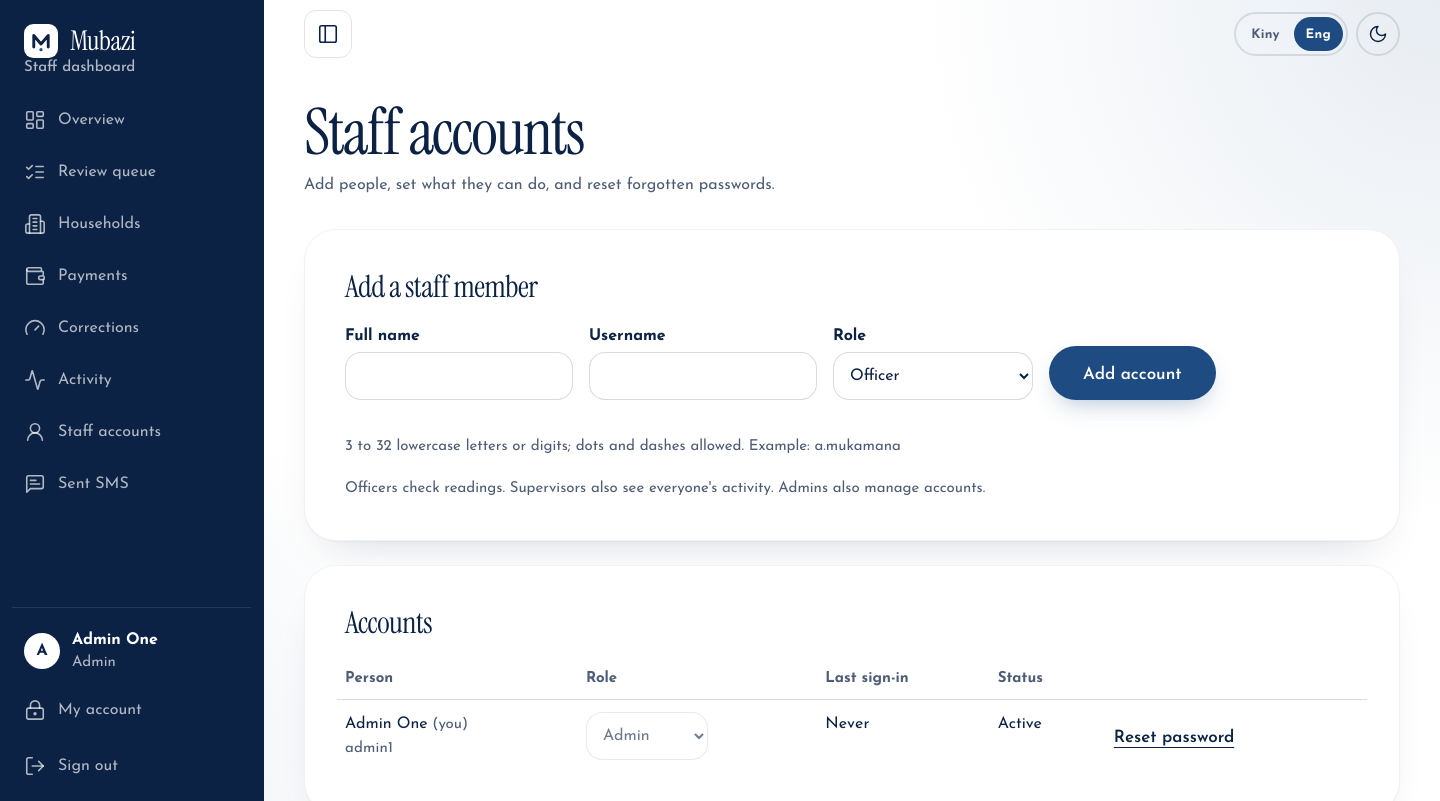
it: Staff accounts › when an admin adds a person, should show their temporary password once
Check: the text "(you)" is shown, box [428,717,468,732]
Check: the dropdown named "Role for Admin One" is disabled, box [586,712,708,760]
Click the button "Add account" at coordinates (1132, 373), box [1049,346,1216,400]
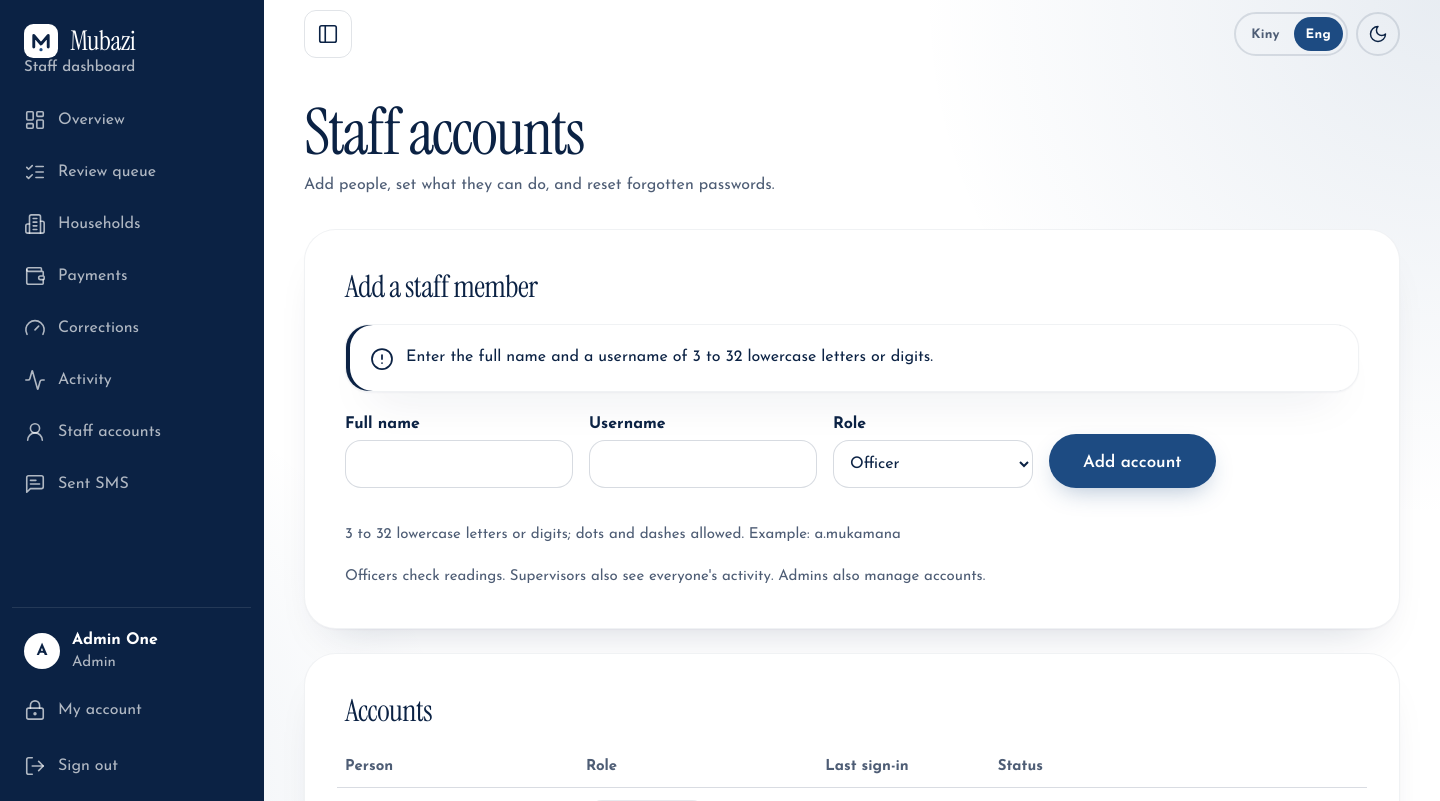
Check: the text "Enter the full name and a username" is shown, box [406,349,933,365]
Type "Uwase Jeanne" into the field labelled "Full name" at coordinates (459, 464), box [345,440,573,488]
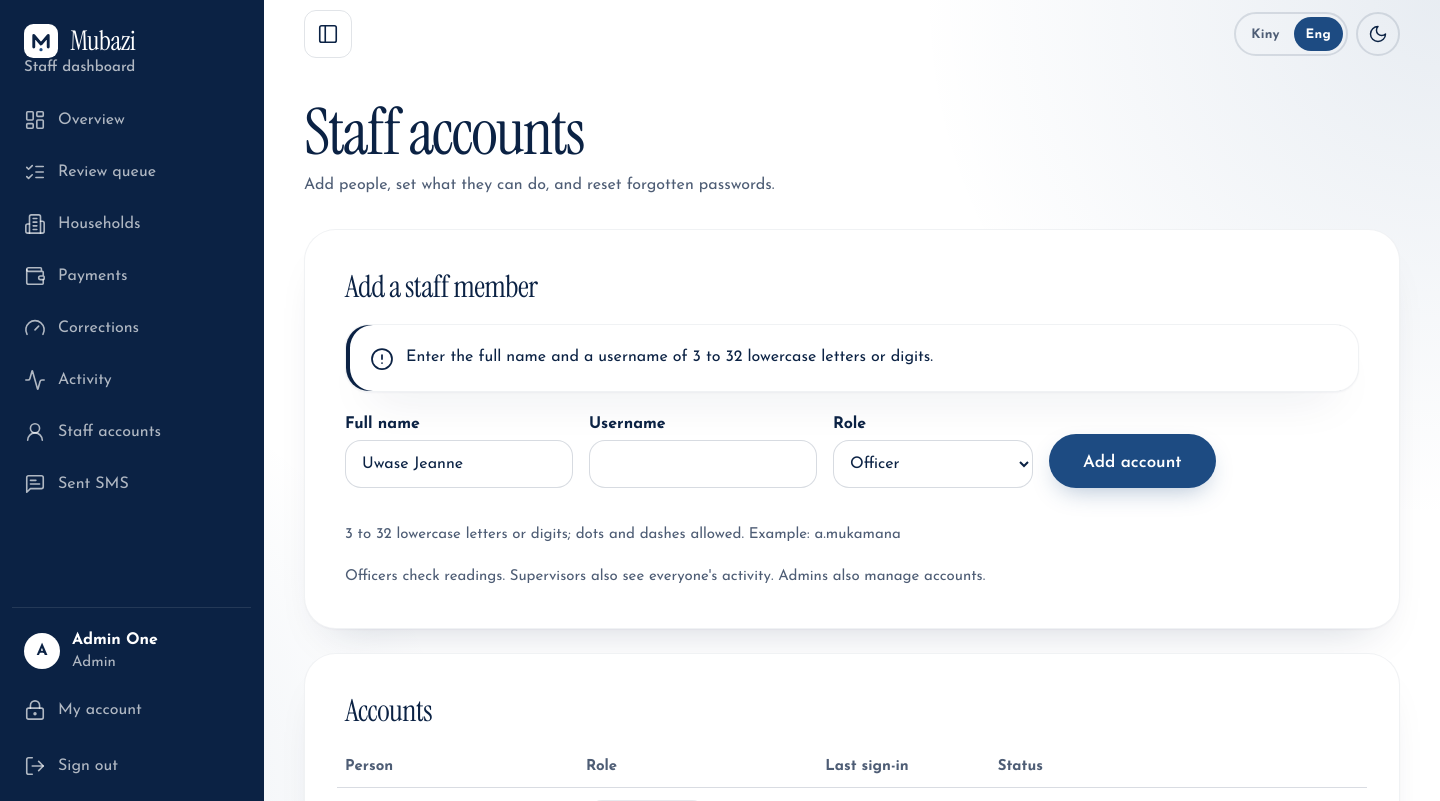
Type "U.Jeanne" into the field labelled "Username" at coordinates (703, 464), box [589,440,817,488]
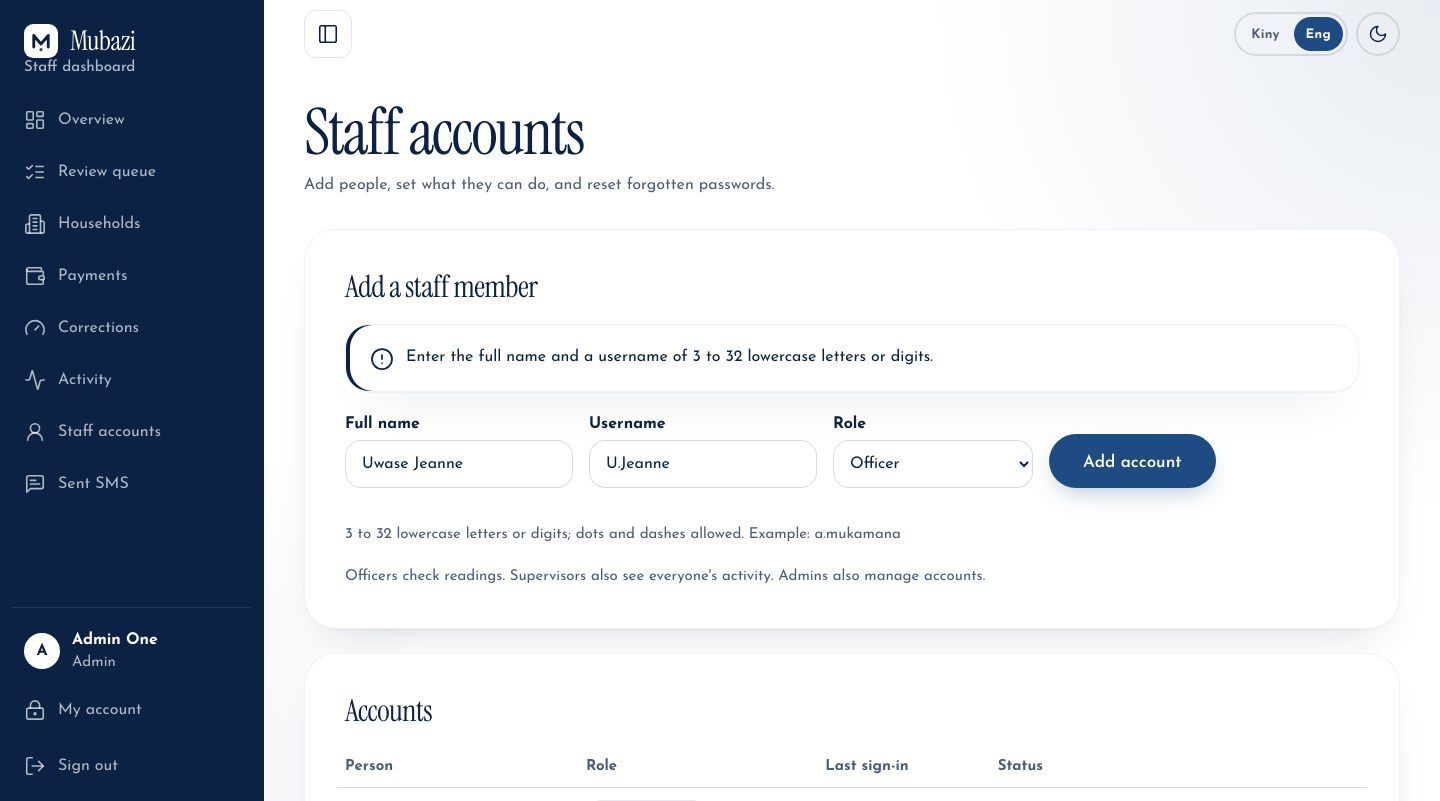
Click the button "Add account" at coordinates (1132, 461), box [1049,434,1216,488]
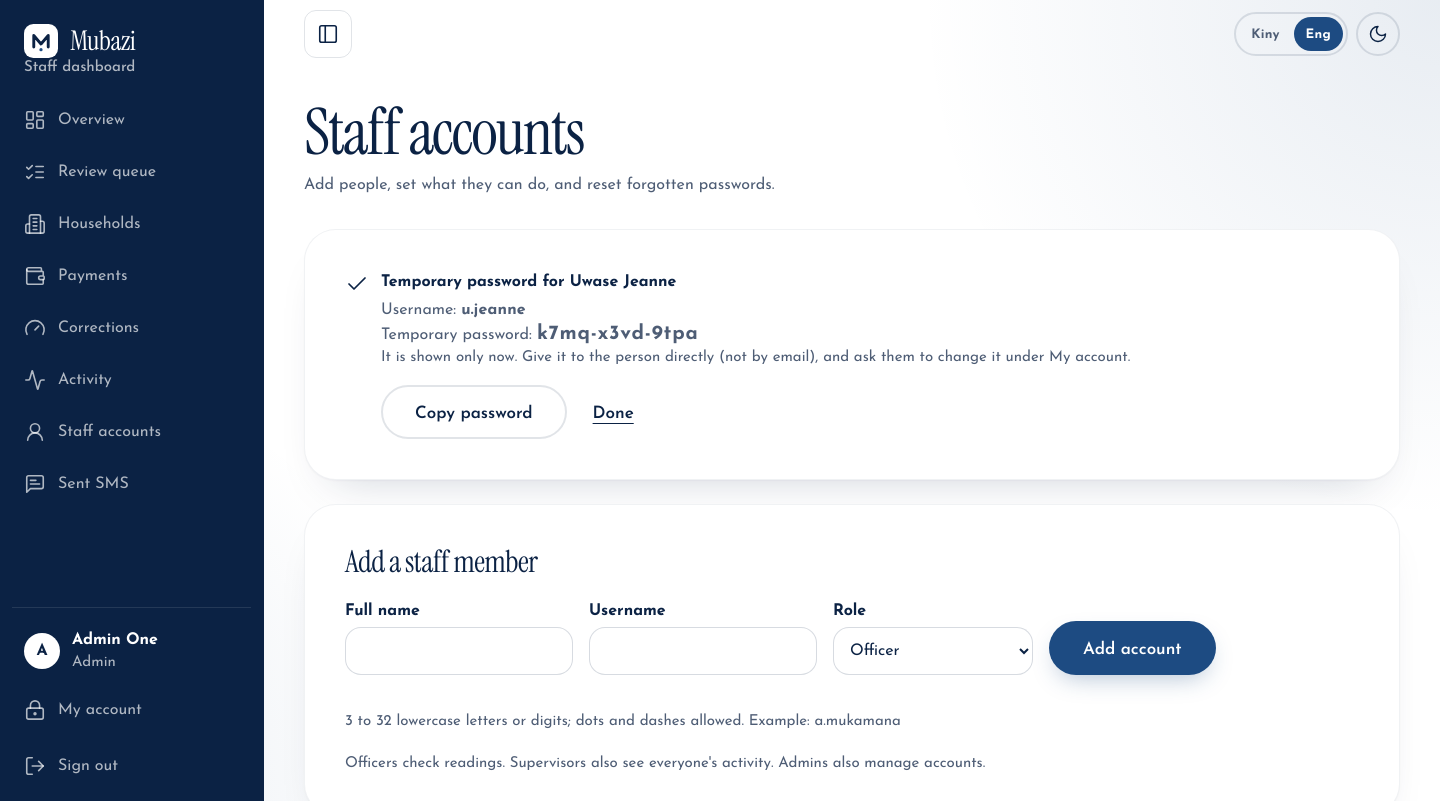
Check: the text "k7mq-x3vd-9tpa" is shown, box [537,324,698,344]
Click the button "Done" at coordinates (613, 412), box [583,388,644,436]
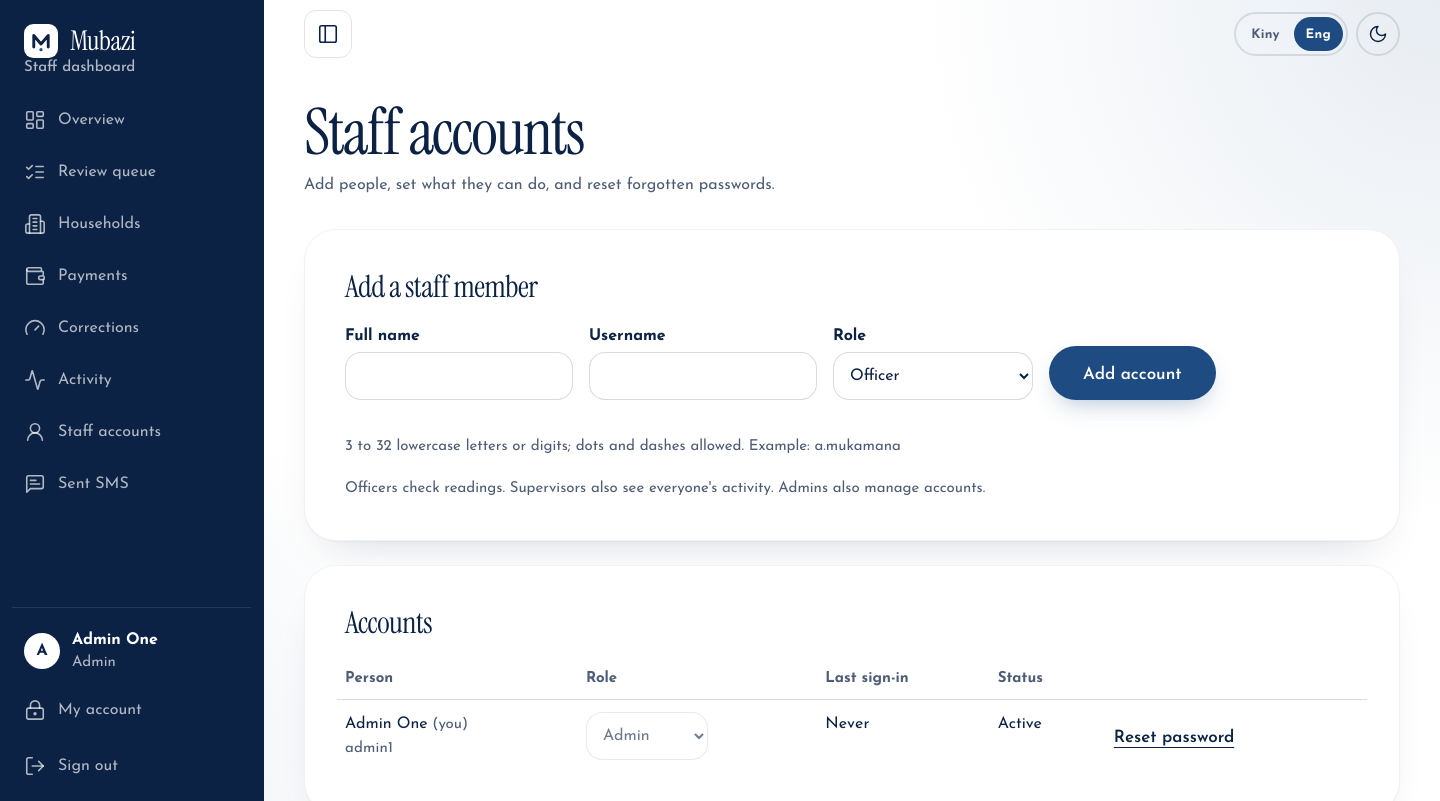
Check: the text "k7mq-x3vd-9tpa" is gone
